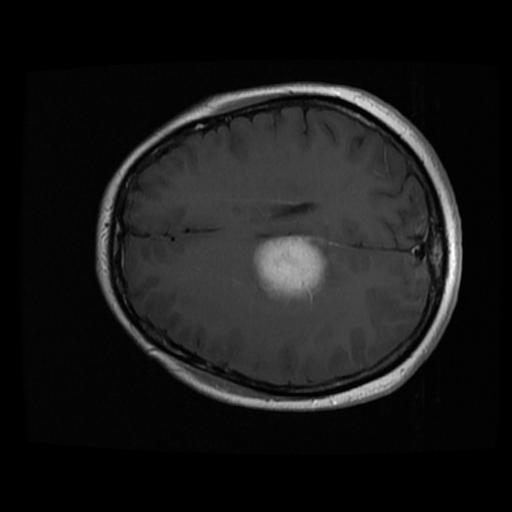meningioma: (251, 236, 326, 301)
